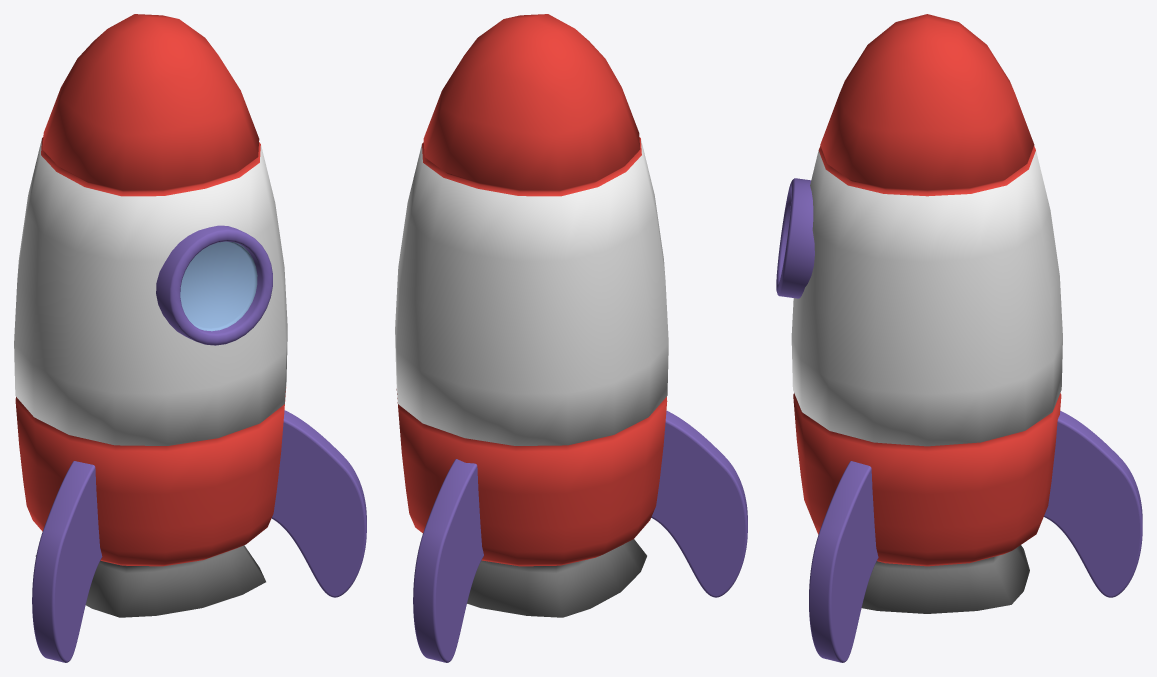
Rendered from ship.glb.
3 views of the same model, side by side, from view 1: azimuth 30°, elevation 25°; view 2: azimuth 150°, elevation 25°; view 3: azimuth 270°, elevation 25° (orthographic).
Visible parts, largest first — view 1: Cube, BezierCircle.002, Cylinder, BezierCircle; view 2: Cube, BezierCircle, BezierCircle.001; view 3: Cube, BezierCircle.001, BezierCircle.002, Cylinder.
Boxes of the visible parts, <box> form: Cube: <box>14,14,287,617</box>; BezierCircle.002: <box>271,410,366,597</box>; Cylinder: <box>156,225,272,345</box>; BezierCircle: <box>32,461,102,662</box>; Cube: <box>395,14,668,617</box>; BezierCircle: <box>651,410,747,597</box>; BezierCircle.001: <box>413,459,483,662</box>; Cube: <box>791,14,1062,613</box>; BezierCircle.001: <box>1044,411,1142,597</box>; BezierCircle.002: <box>809,461,878,662</box>; Cylinder: <box>776,178,814,298</box>.
Size of the model in its own units: 2.89 by 4.76 by 2.76.
